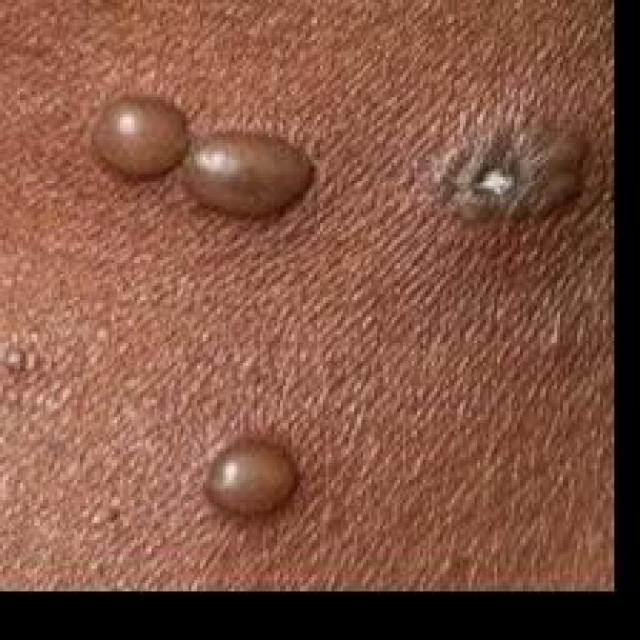others: (15, 38, 608, 579)
